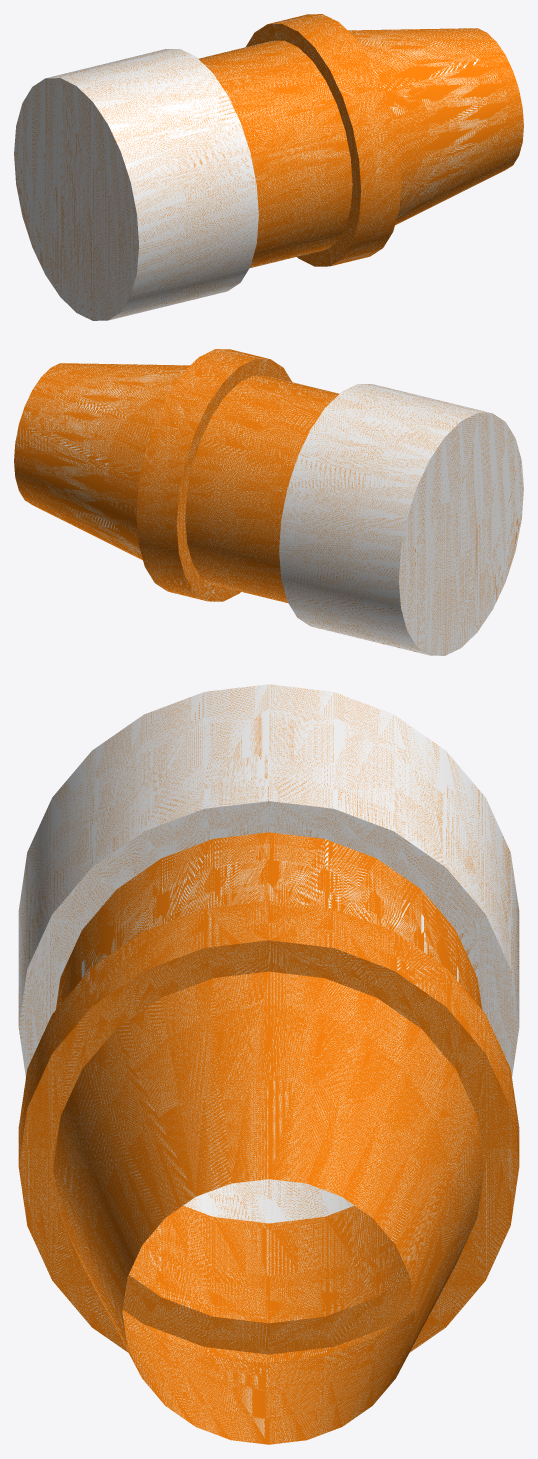
The model's file is original-7.obj.
The picture shows the model from 3 angles, top to bottom: view 1: azimuth 30°, elevation 25°; view 2: azimuth 150°, elevation 25°; view 3: azimuth 270°, elevation 25°; orthographic projection. The views are drawn at different scales.
Visible parts, largest first — view 1: mesh5/mesh5-geometry#mesh5-geometry; view 2: mesh5/mesh5-geometry#mesh5-geometry; view 3: mesh5/mesh5-geometry#mesh5-geometry.
Boxes of the visible parts, x1,y1,x2,y2 form: mesh5/mesh5-geometry#mesh5-geometry: (14, 14, 523, 320); mesh5/mesh5-geometry#mesh5-geometry: (14, 349, 523, 655); mesh5/mesh5-geometry#mesh5-geometry: (18, 684, 519, 1444).
Size of the model in its own units: 0.0891 by 0.047 by 0.047.
